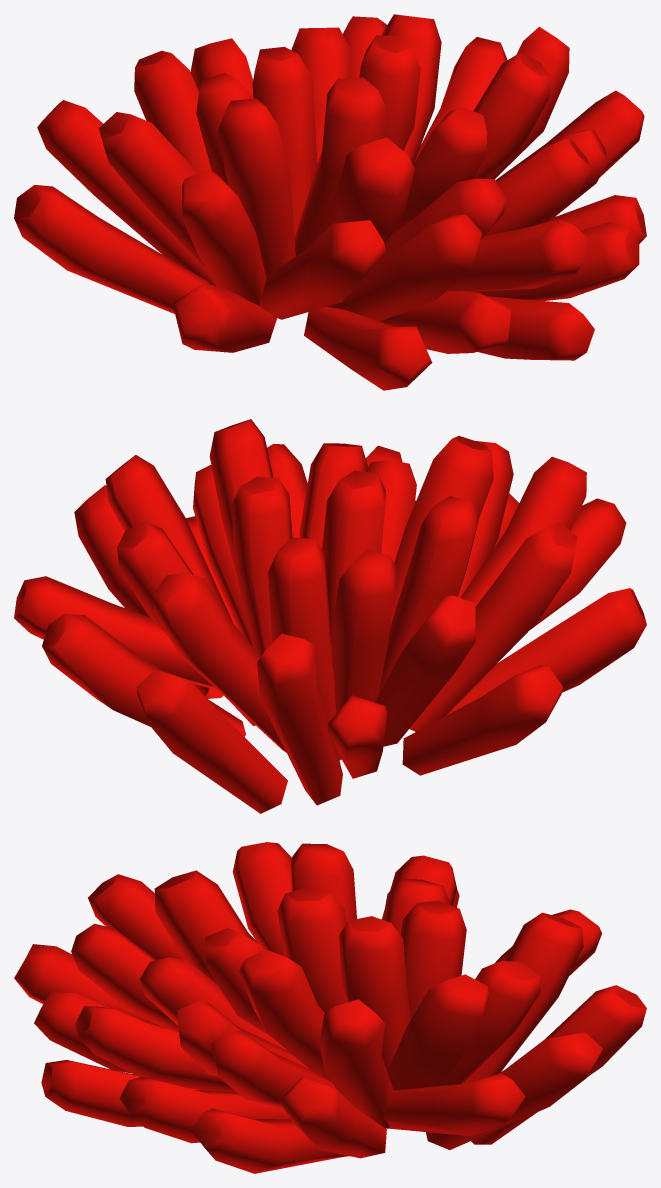
File: red_coral.glb
3 views of the same model, one above another, from view 1: azimuth 30°, elevation 25°; view 2: azimuth 150°, elevation 25°; view 3: azimuth 270°, elevation 25° (orthographic). The views are drawn at different scales.
Parts seen in each view (by area): view 1: node_id30; view 2: node_id30; view 3: node_id30.
Part boxes in pixels (left/top/right/bottom): node_id30: left=14, top=14, right=646, bottom=390; node_id30: left=14, top=419, right=646, bottom=813; node_id30: left=14, top=842, right=646, bottom=1173.
Size of the model in its own units: 0.0423 by 0.0205 by 0.0458.
